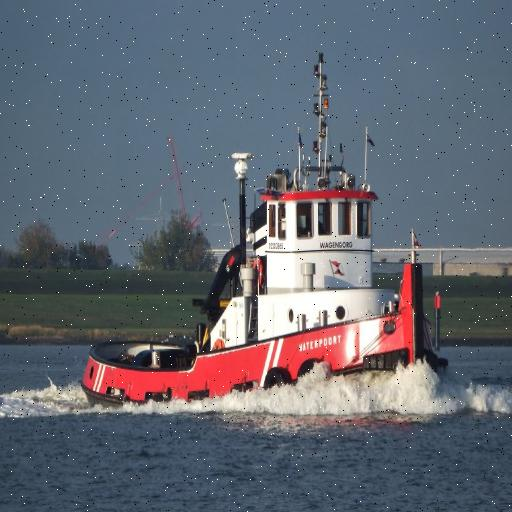tugboat: (78, 50, 453, 430)
